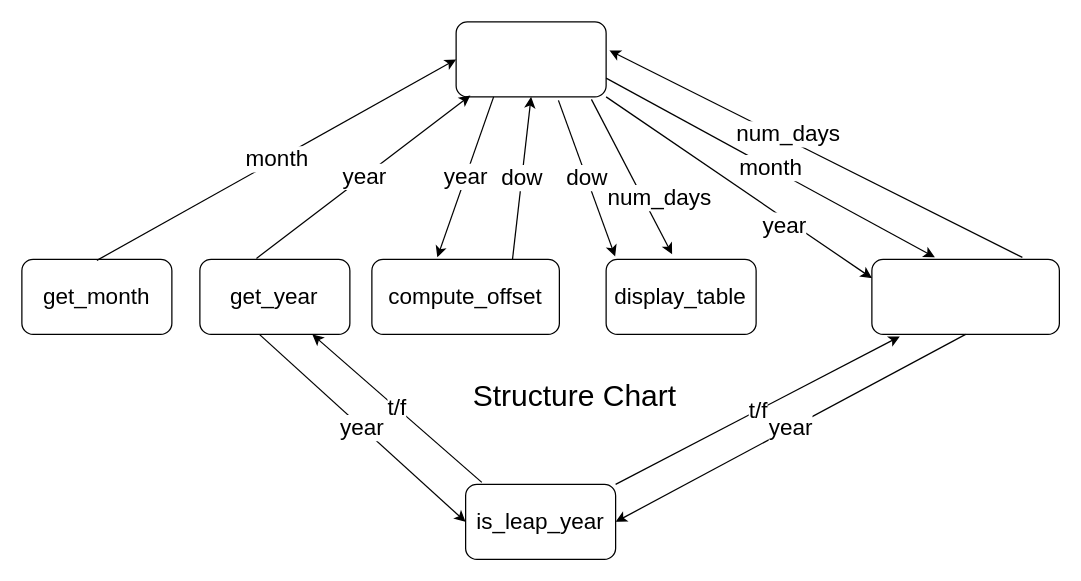
The diagram is 1081 pixels wide and 581 high, and some of its shapes have lost their labels. The centre of each missing label's shape, as x and y in pixels:
"days_in_month" belongs at pixel 965 296.
"main" belongs at pixel 530 59.
